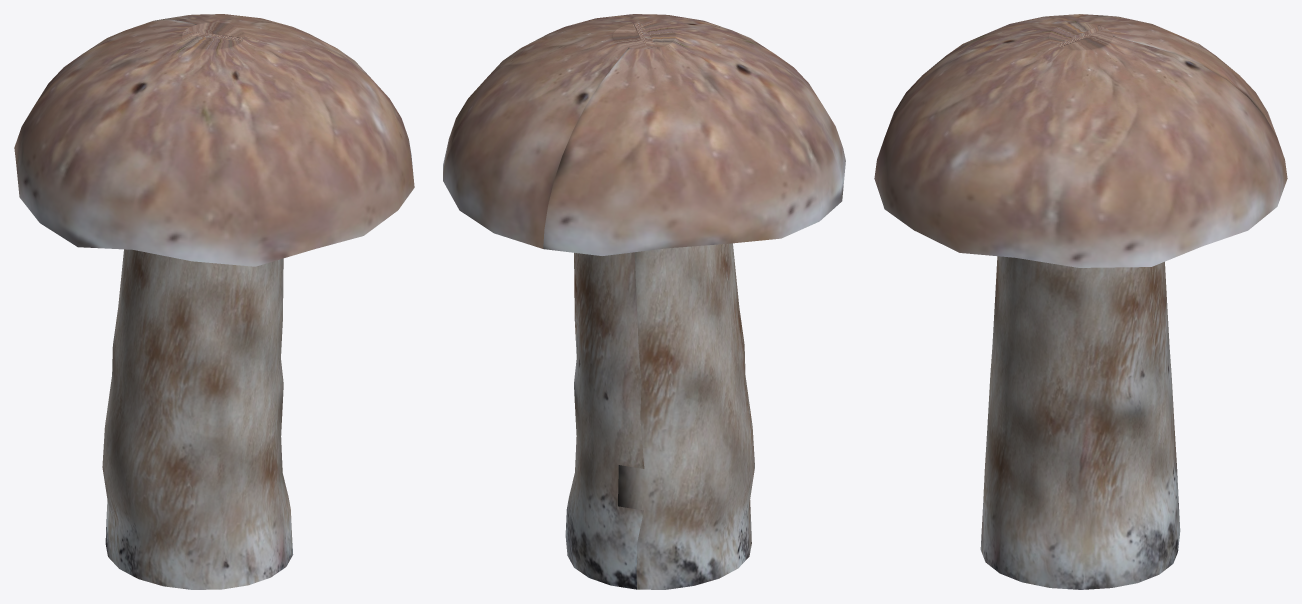
Rendered from porcini.glb.
3 views of the same model, side by side, from view 1: azimuth 30°, elevation 25°; view 2: azimuth 150°, elevation 25°; view 3: azimuth 270°, elevation 25° (orthographic). The views are drawn at different scales.
Visible parts, largest first — view 1: Object_3; view 2: Object_3; view 3: Object_3.
Boxes of the visible parts, x1,y1,x2,y2 form: Object_3: [14, 14, 414, 589]; Object_3: [443, 14, 845, 589]; Object_3: [874, 14, 1287, 589].
Bounding box in the file's own units: 1.99 × 2.79 × 2.
1 material, 1 textured.
